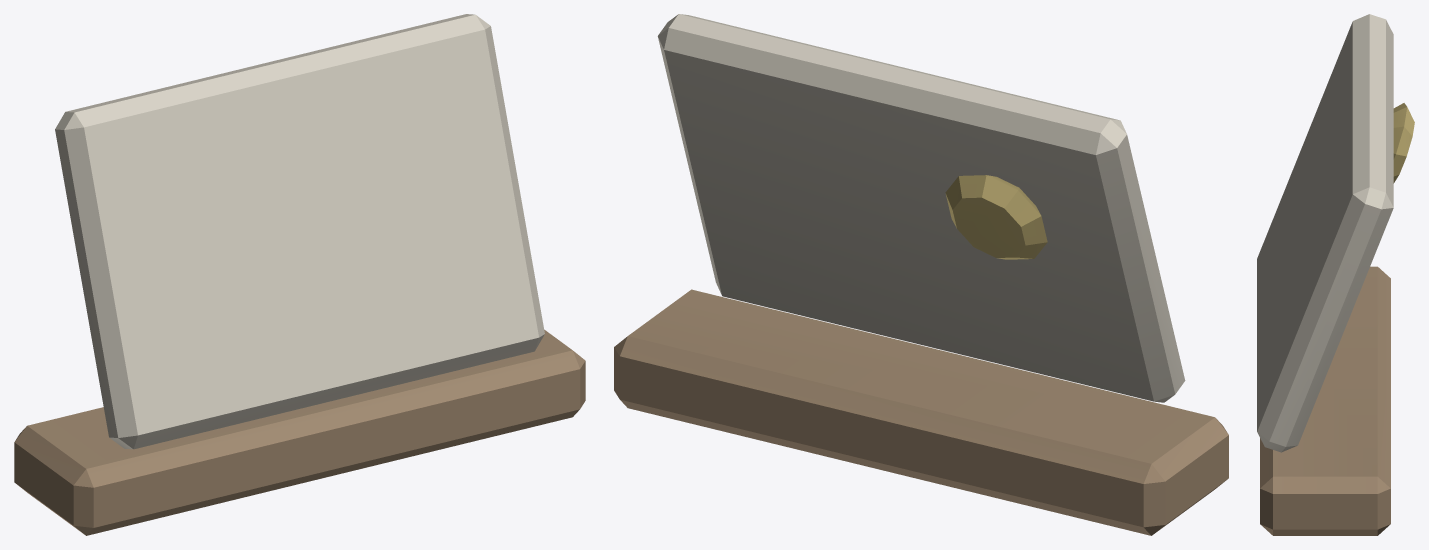
Rendered from shop_price_stand.glb.
3 renders of one model, left to right at view 1: azimuth 30°, elevation 25°; view 2: azimuth 150°, elevation 25°; view 3: azimuth 270°, elevation 25°, orthographic. The views are drawn at different scales.
Size of the model in its own units: 0.24 by 0.1671 by 0.0724.
